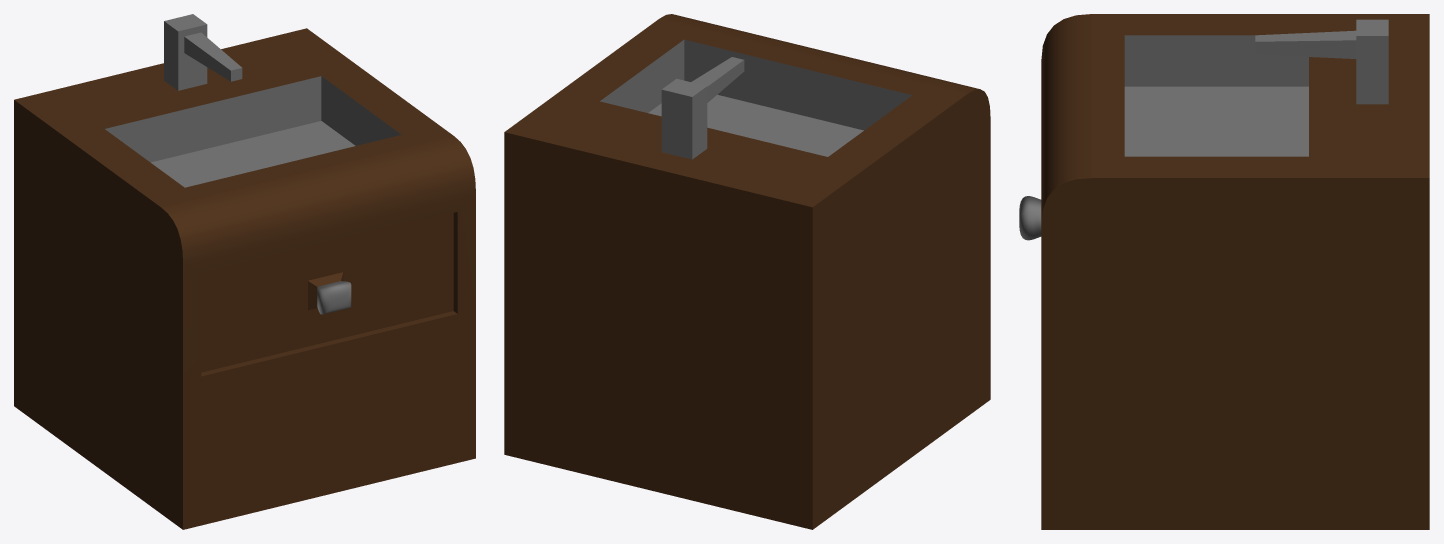
File: SideCounter(sink).FBX
The picture shows the model from 3 angles, left to right: view 1: azimuth 30°, elevation 25°; view 2: azimuth 150°, elevation 25°; view 3: azimuth 270°, elevation 25°; orthographic projection. The views are drawn at different scales.
Visible parts, largest first — view 1: SideCounterW/Sink; view 2: SideCounterW/Sink; view 3: SideCounterW/Sink.
Part boxes in pixels (x1,y1,x2,y2): SideCounterW/Sink: [14, 14, 475, 529]; SideCounterW/Sink: [504, 14, 990, 529]; SideCounterW/Sink: [1019, 14, 1429, 529].
Size of the model in its own units: 100 by 119 by 106.
